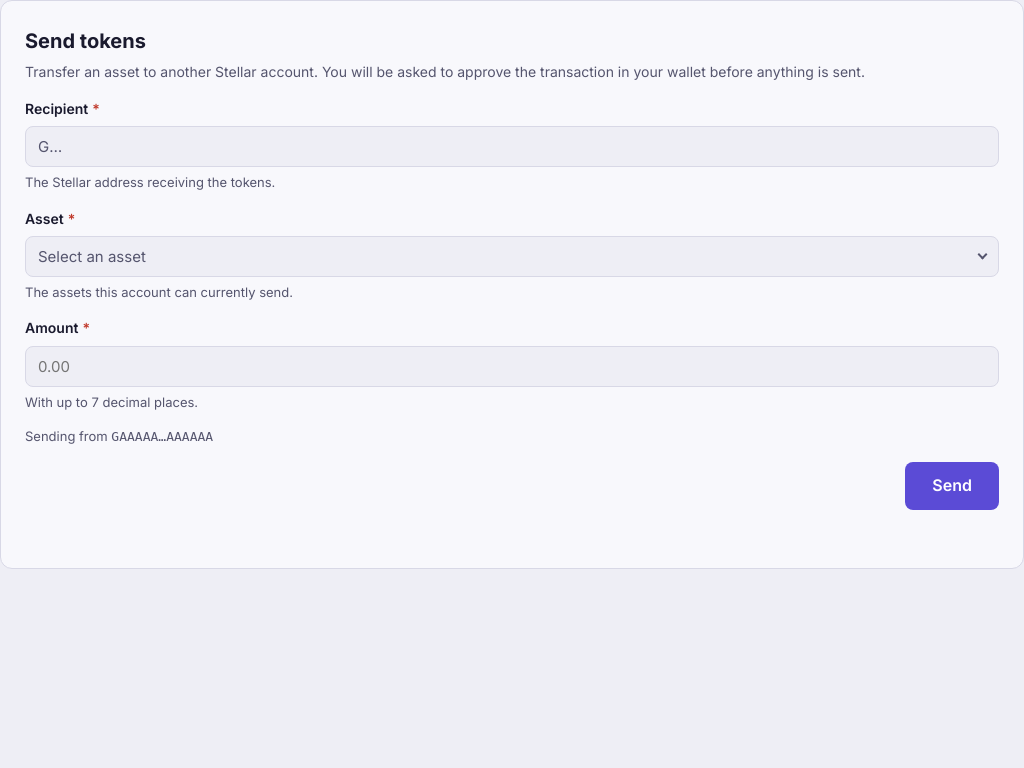
TransferTokenForm › offers every asset in the selector
This screenshot has width=1024, height=768.
Click the dropdown labelled "Select an asset" at (92, 256), box [25, 236, 999, 277]
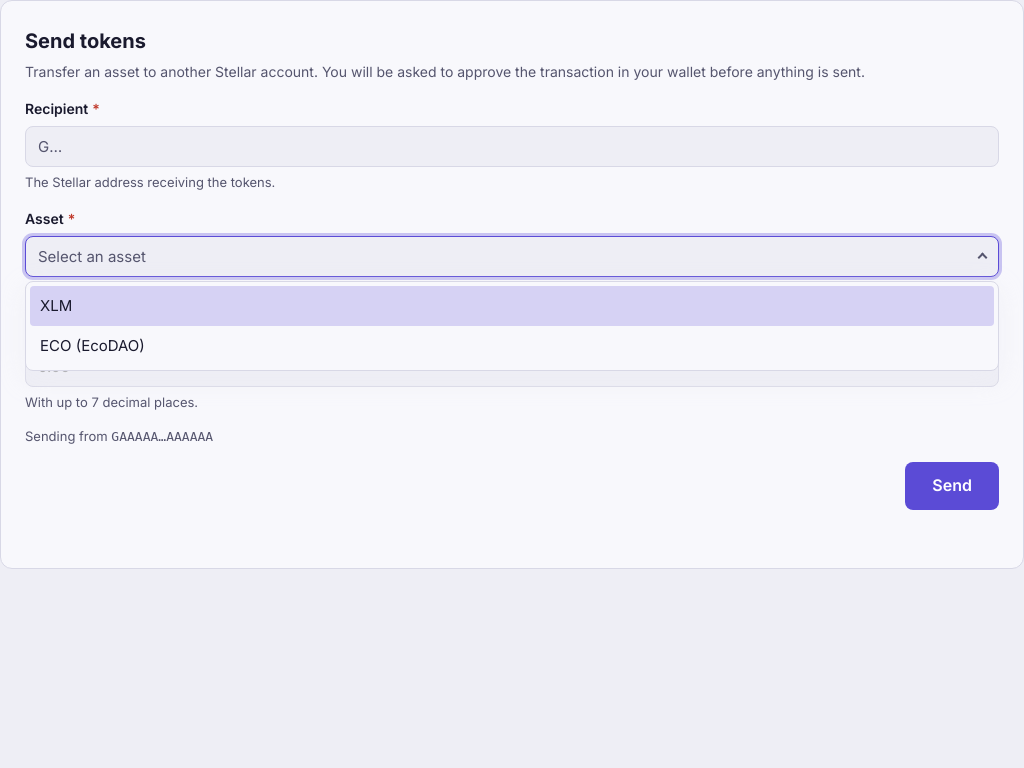
Expected: the option "XLM" is shown, [30, 286, 994, 326]
Expected: the option "ECO (EcoDAO)" is shown, [40, 336, 145, 355]
